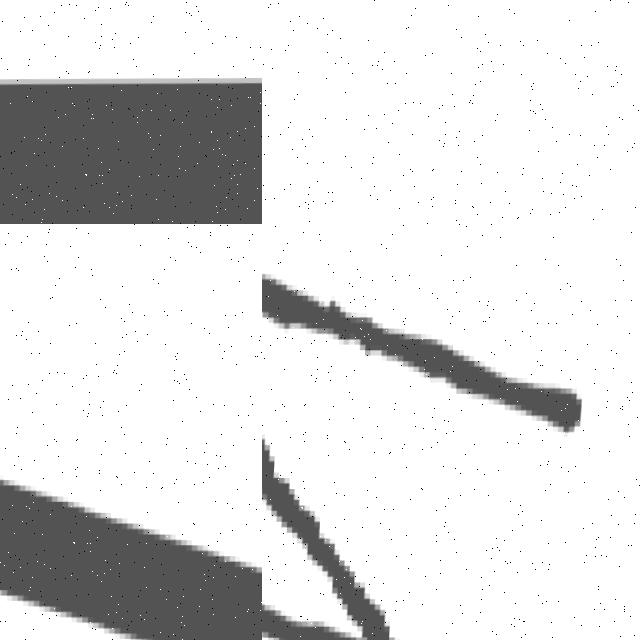1: (262, 166, 640, 224)
L: (0, 373, 262, 640)
T: (0, 7, 262, 224)
U: (262, 248, 603, 640)
